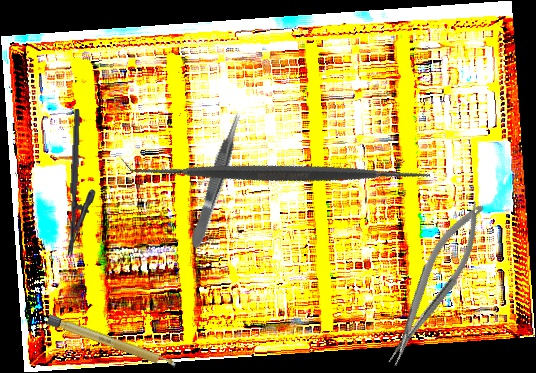Needle Holder: (371, 194, 498, 372), (65, 108, 101, 259)
Scalpel Handle: (46, 314, 178, 371)
Spatula Surgical: (119, 11, 441, 334)
Tissue Forceps: (185, 111, 248, 250)
